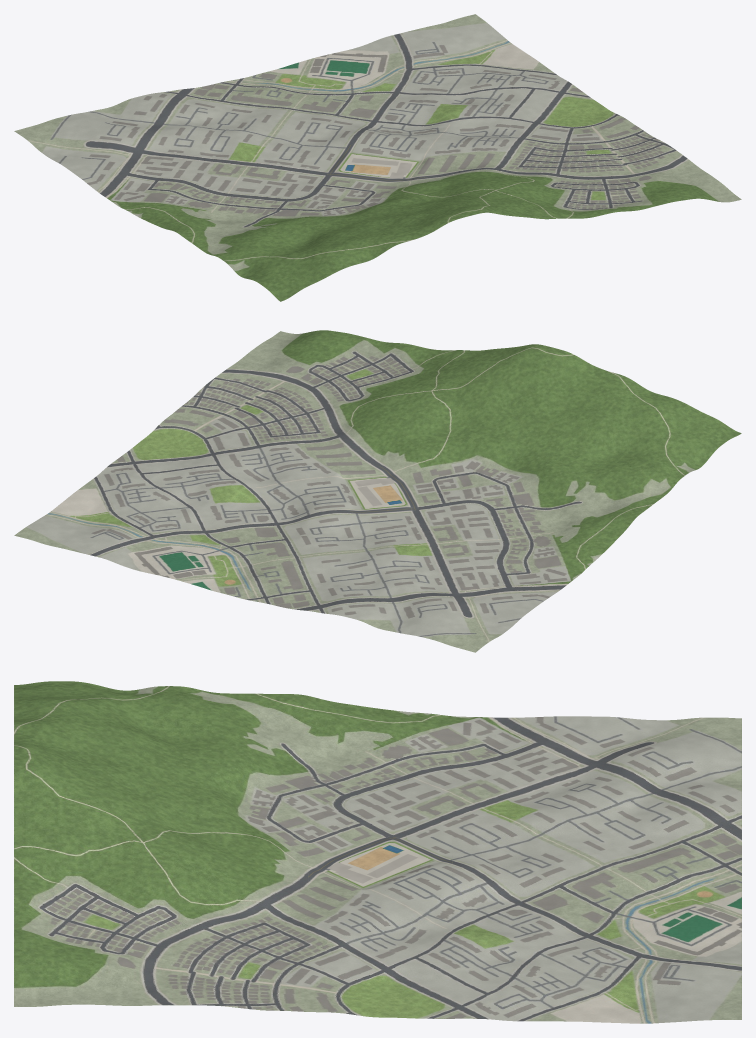
The picture shows the model from 3 angles, top to bottom: view 1: azimuth 30°, elevation 25°; view 2: azimuth 150°, elevation 25°; view 3: azimuth 270°, elevation 25°; orthographic projection. The views are drawn at different scales.
Parts seen in each view (by area): view 1: ground-area, ground-school; view 2: ground-area, ground-school; view 3: ground-area, ground-school.
Part boxes in pixels (left/top/right/bottom): ground-area: left=14, top=14, right=741, bottom=301; ground-school: left=307, top=134, right=450, bottom=194; ground-area: left=14, top=330, right=741, bottom=652; ground-school: left=303, top=459, right=446, bottom=525; ground-area: left=14, top=681, right=741, bottom=1023; ground-school: left=308, top=833, right=452, bottom=895.
Bounding box in the file's own units: 1088 × 151 × 1088.
Materials: 2 (2 with a texture image).
